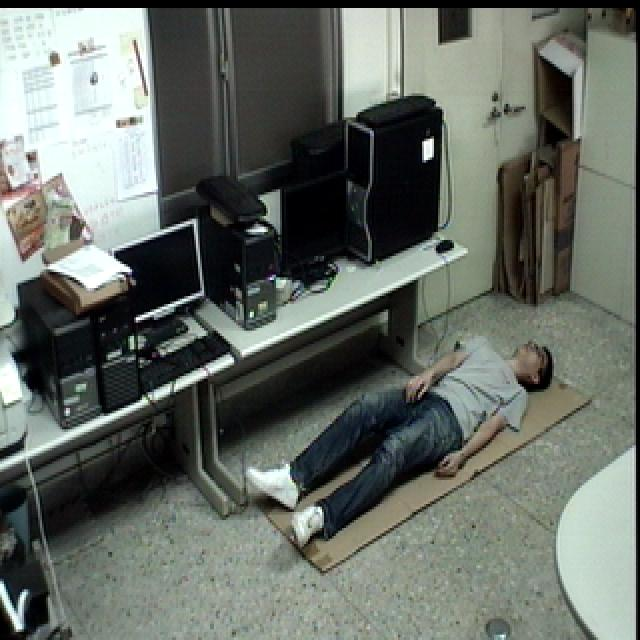lie: (231, 328, 572, 553)
